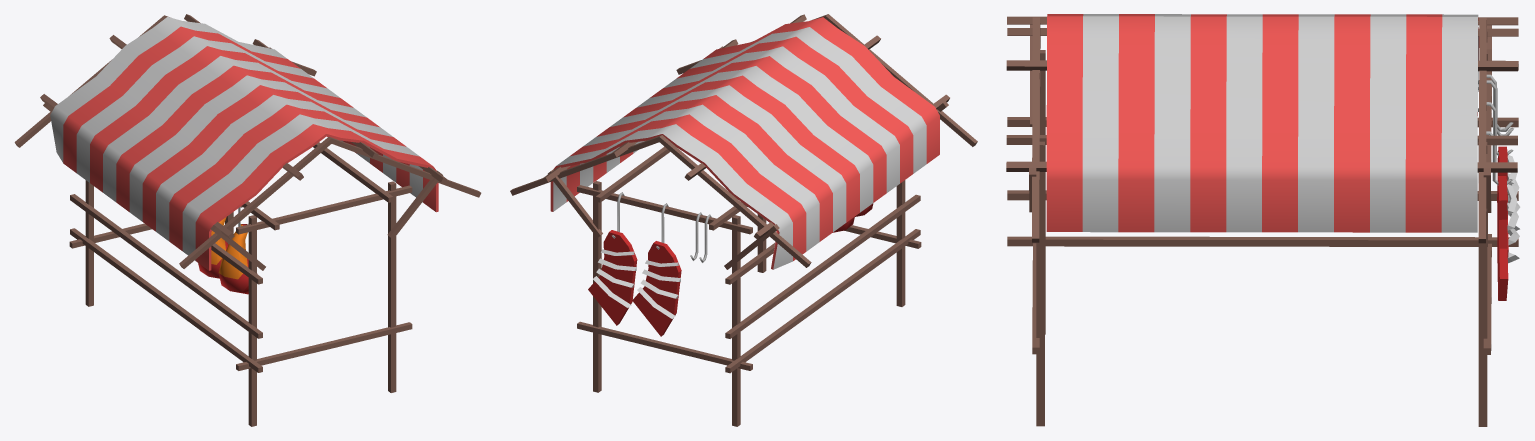
File: stall_001.glb
3 renders of one model, left to right at view 1: azimuth 30°, elevation 25°; view 2: azimuth 150°, elevation 25°; view 3: azimuth 270°, elevation 25°, orthographic. The views are drawn at different scales.
Visible parts, largest first — view 1: stall_001; view 2: stall_001; view 3: stall_001.
Part boxes in pixels (x1=…): stall_001: x1=14, y1=14, x2=481, y2=426; stall_001: x1=510, y1=14, x2=977, y2=426; stall_001: x1=1006, y1=14, x2=1520, y2=426.
Size of the model in its own units: 2.98 by 2.57 by 3.27.
Materials: 1 (1 with a texture image).
